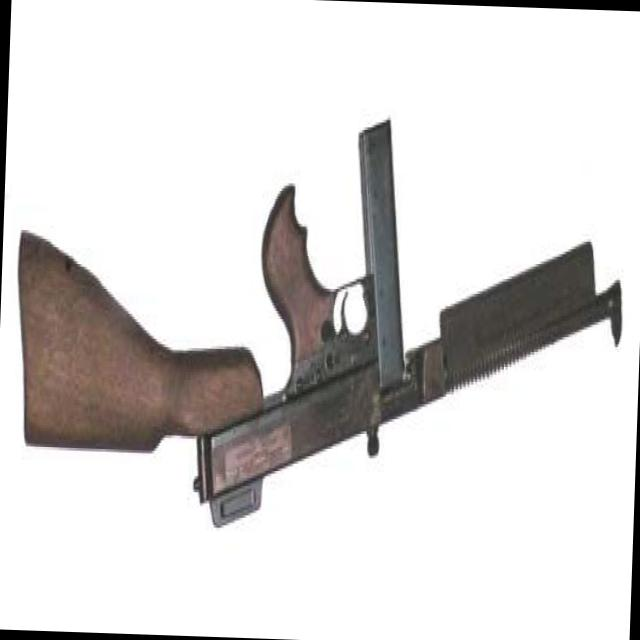Weapon: (10, 101, 630, 552)
